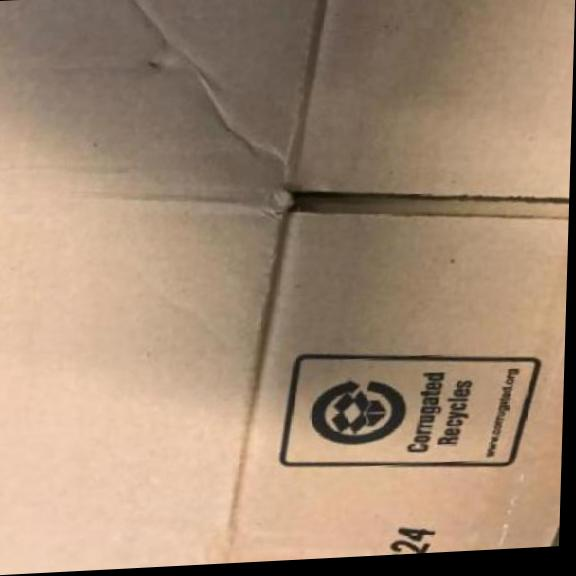Kertas: (0, 0, 574, 576)
